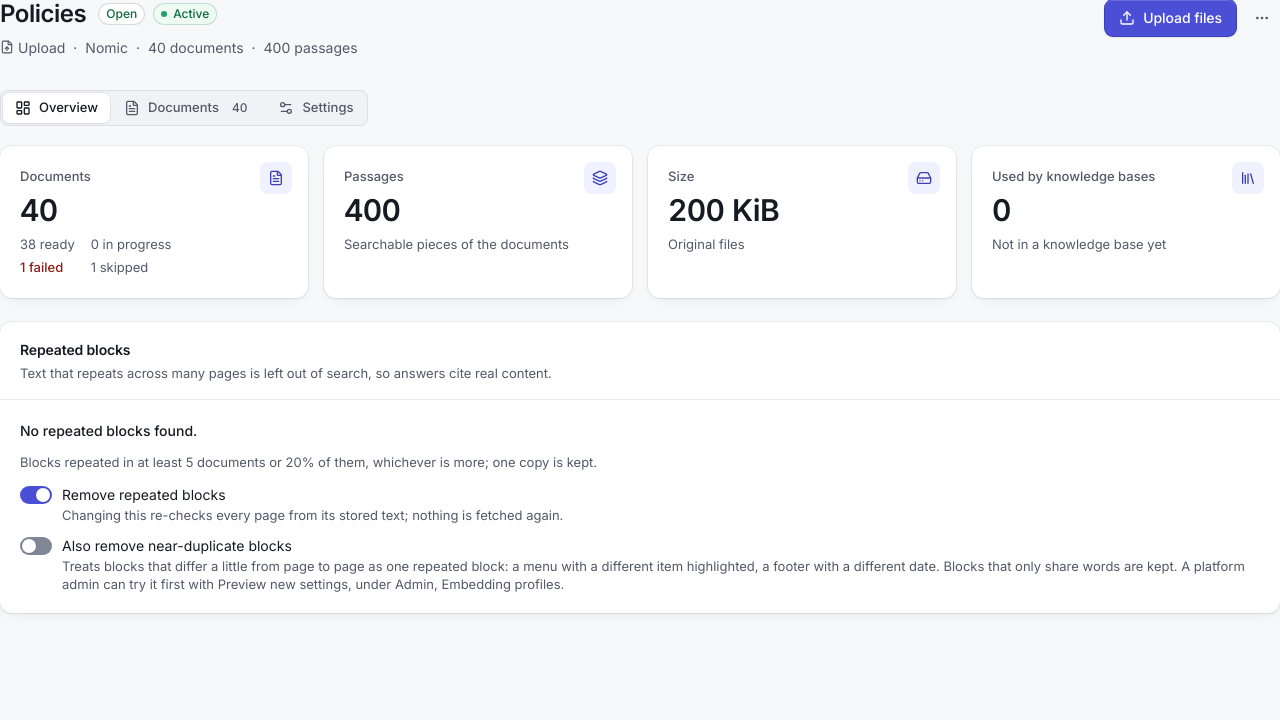
Test: documents table and sheet (Q4, W3) › opens a document's sheet with its facts and passage previews
Click the tab "Documents 40" at (188, 108), box [112, 93, 264, 123]
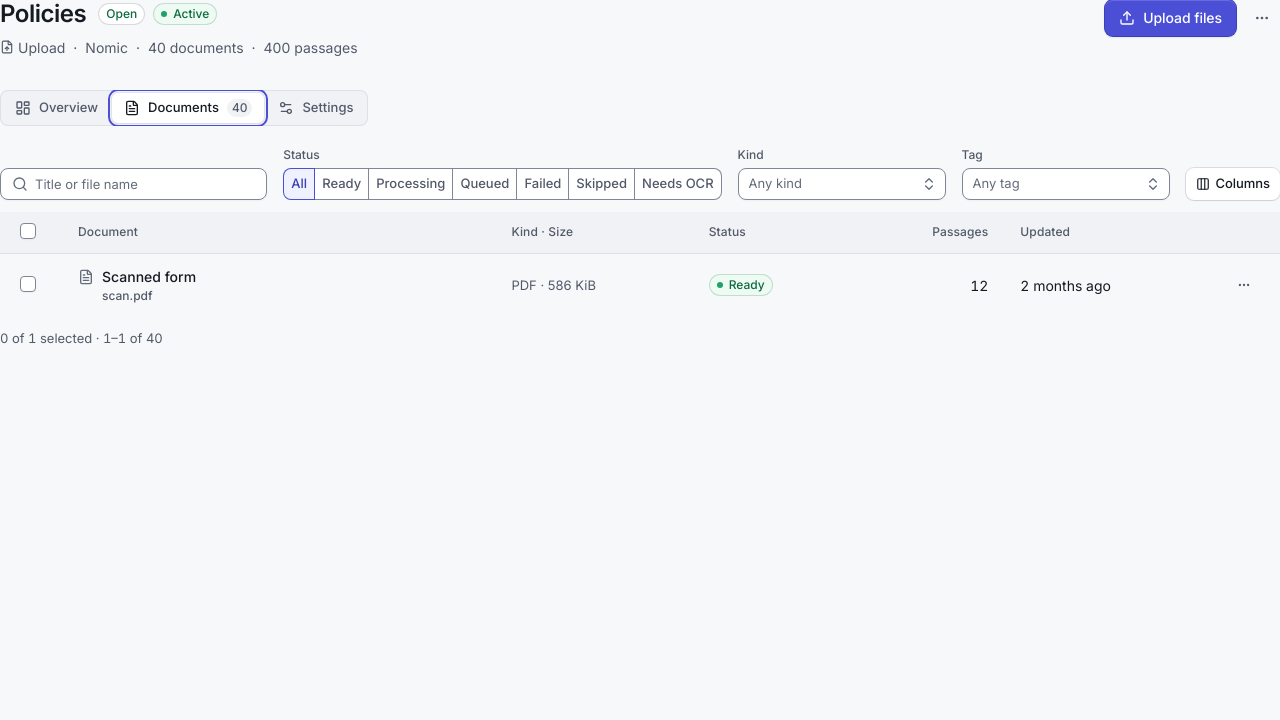
Click the button "Scanned form scan.pdf" at (190, 285), box [78, 266, 302, 305]
(page scrolled)
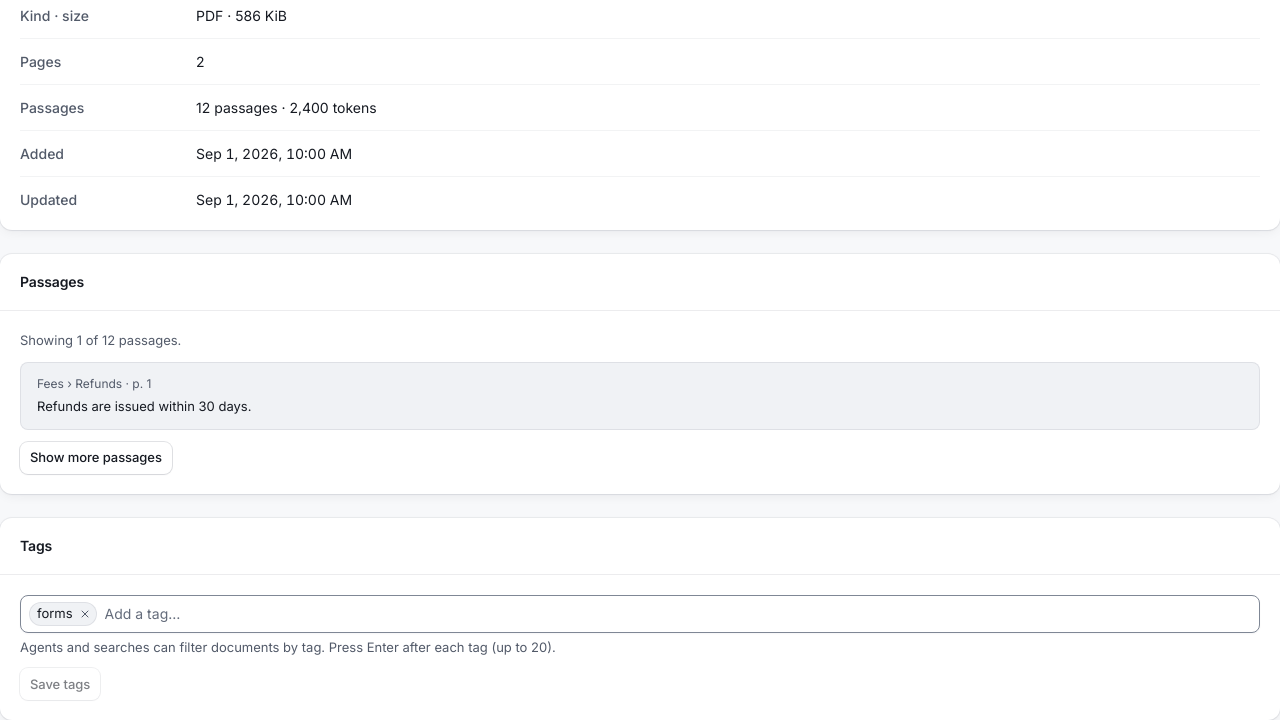
Check: the element "Scanned form" shows "PDF · 586 KiB", box [196, 7, 287, 24]
Check: the list named "Passage previews" shows "Fees › Refunds · p. 1", box [37, 376, 151, 391]
Check: the list named "Passage previews" shows "Refunds are issued within 30 days.", box [37, 398, 252, 414]
